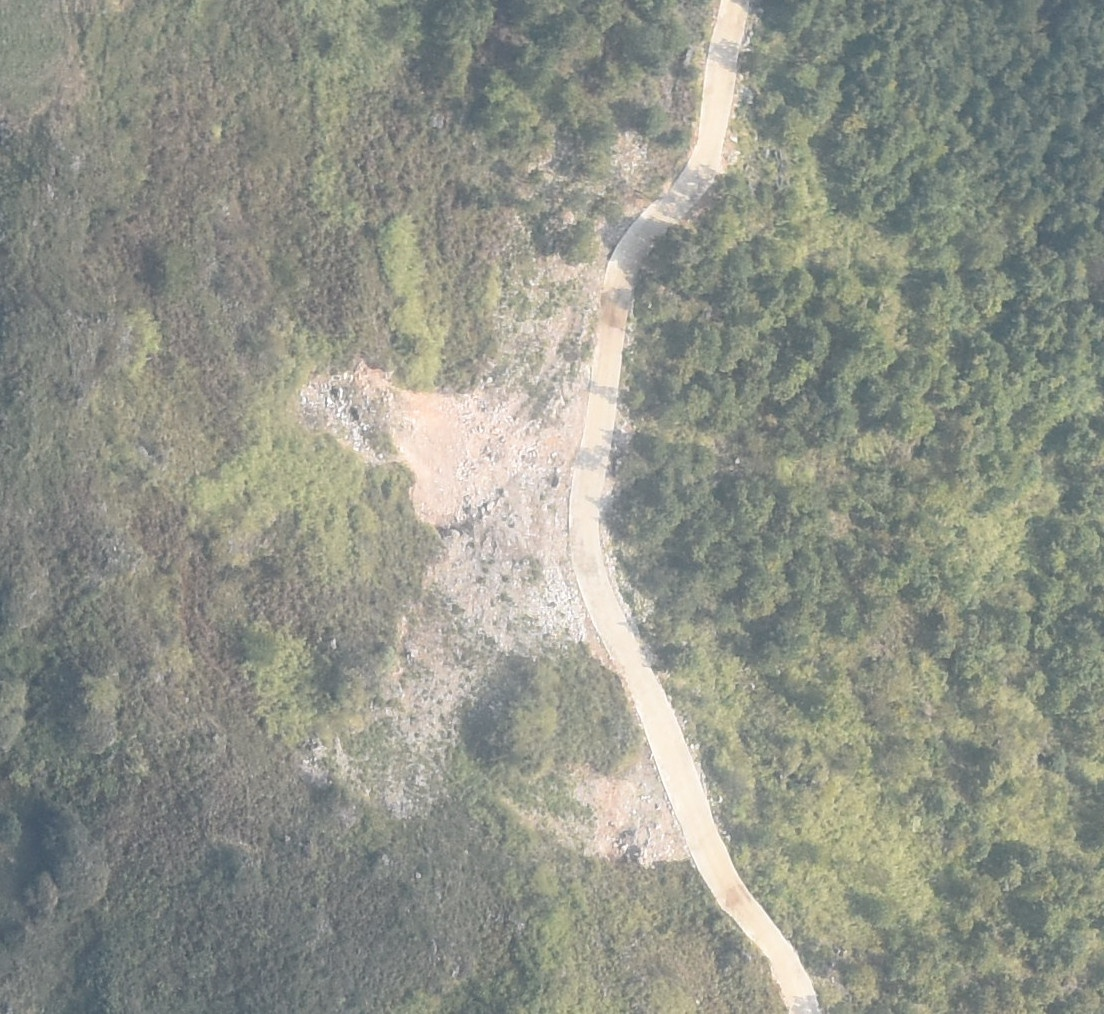quarry: (295, 367, 704, 866)
